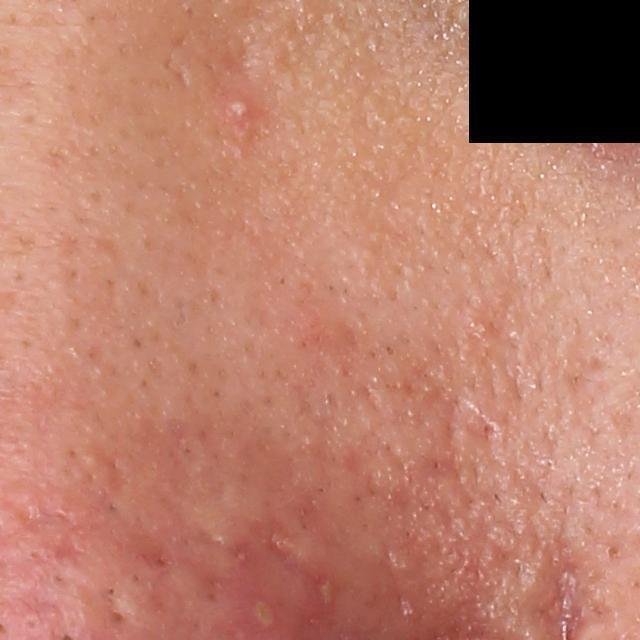pustule: (243, 592, 291, 639), (224, 90, 252, 118)
